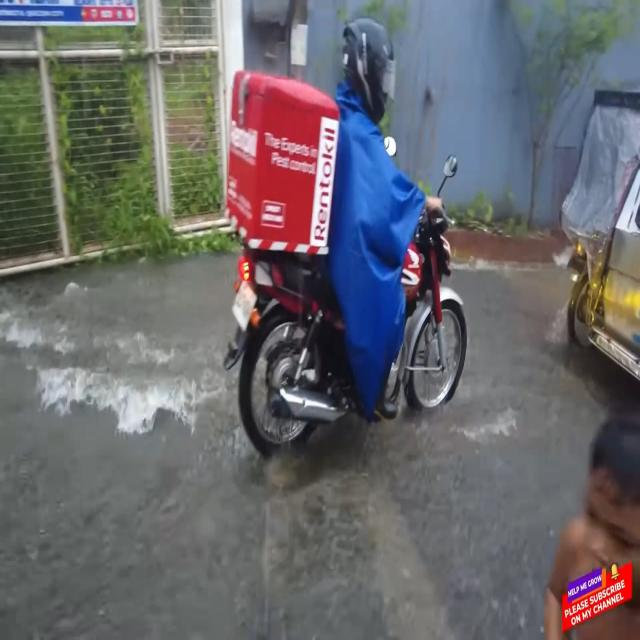full: (336, 10, 401, 129)
